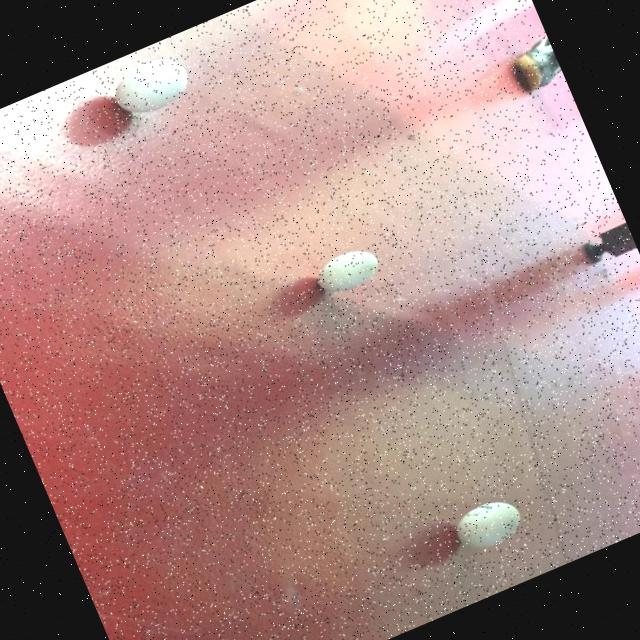ping-pong-ball: (104, 49, 196, 124), (445, 492, 528, 560), (308, 240, 386, 302)
